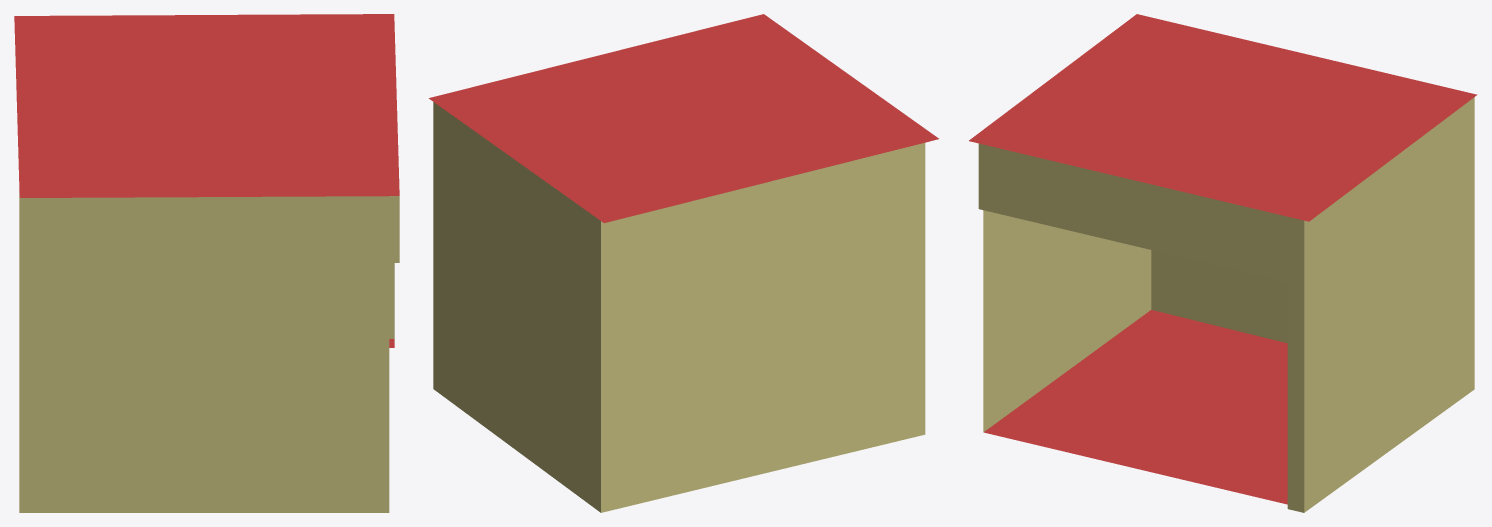
3 renders of one model, left to right at view 1: azimuth 30°, elevation 25°; view 2: azimuth 150°, elevation 25°; view 3: azimuth 270°, elevation 25°, orthographic. The views are drawn at different scales.
Bounding box in the file's own units: 10.66 × 11.04 × 6.99.
